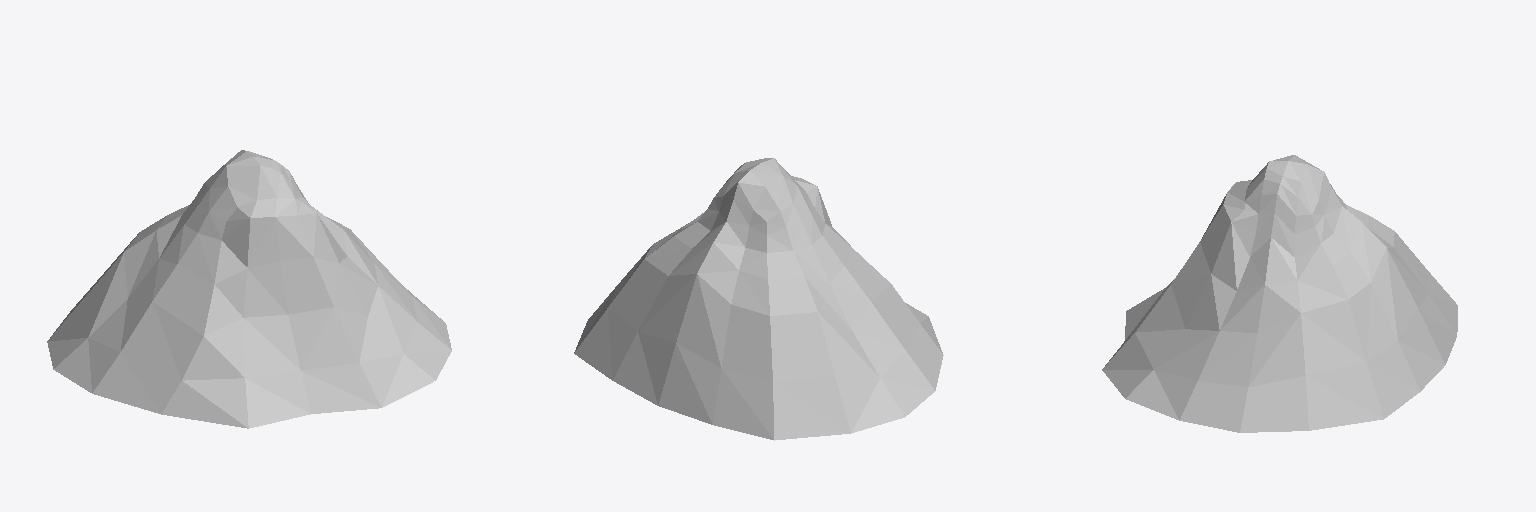
Rendered from mountain.obj.
3 views of the same model, side by side, from view 1: azimuth 30°, elevation 25°; view 2: azimuth 150°, elevation 25°; view 3: azimuth 270°, elevation 25° (orthographic).
Visible parts, largest first — view 1: mountain_Mesh1_Model; view 2: mountain_Mesh1_Model; view 3: mountain_Mesh1_Model.
Part boxes in pixels (bbox=[...]): mountain_Mesh1_Model: bbox=[47, 150, 451, 428]; mountain_Mesh1_Model: bbox=[574, 158, 943, 440]; mountain_Mesh1_Model: bbox=[1102, 155, 1457, 432].
Size of the model in its own units: 148 by 79.99 by 134.